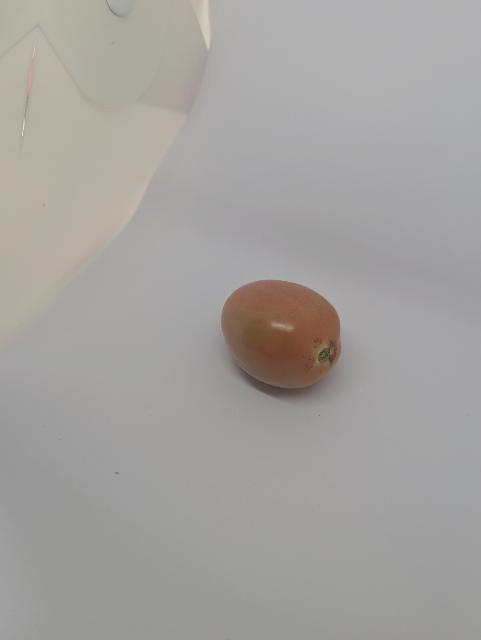turning: (215, 272, 353, 397)
